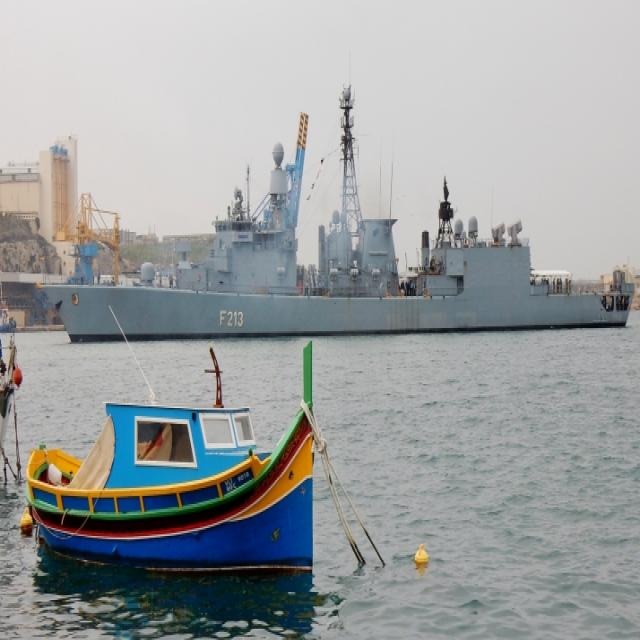Fragata: (30, 79, 640, 364)
